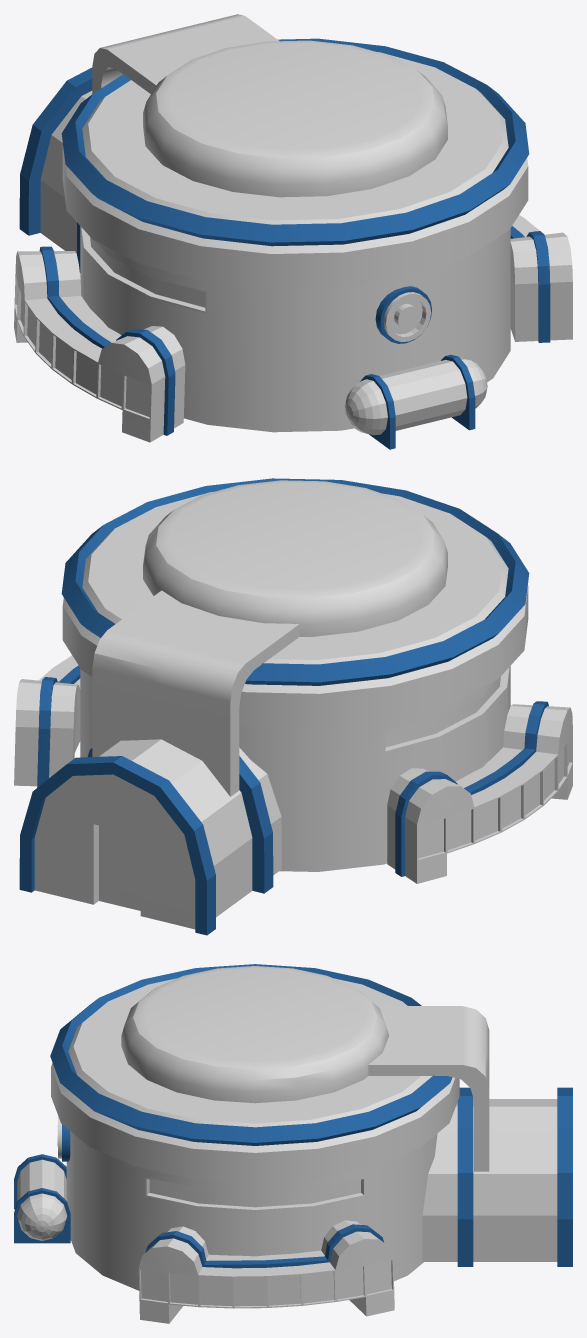
The model's file is House_1.fbx.
3 renders of one model, top to bottom at view 1: azimuth 30°, elevation 25°; view 2: azimuth 150°, elevation 25°; view 3: azimuth 270°, elevation 25°, orthographic. The views are drawn at different scales.
Parts seen in each view (by area): view 1: polySurface105; view 2: polySurface105; view 3: polySurface105.
Boxes of the visible parts, box(x1,y1,x2,y2) form: polySurface105: box(14, 14, 572, 449); polySurface105: box(14, 478, 572, 935); polySurface105: box(14, 964, 572, 1323).
Bounding box in the file's own units: 7.84 × 3.91 × 9.2.
